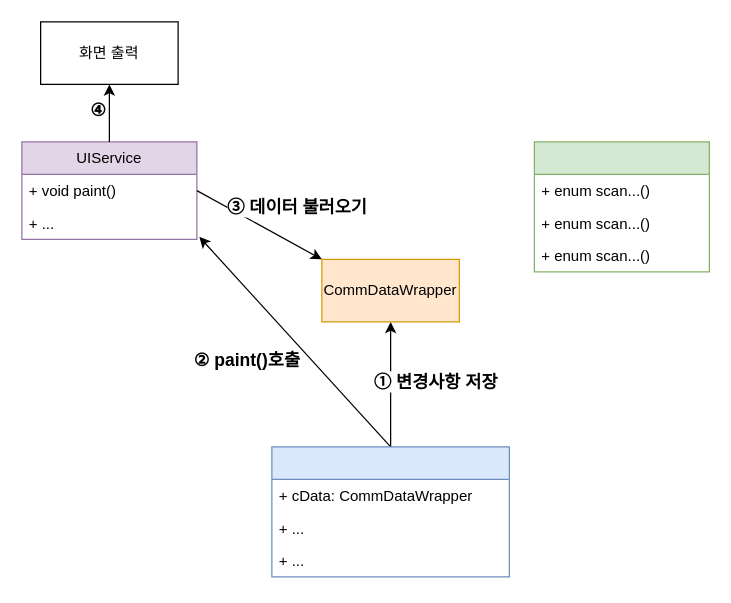
This 731x603 diagram has some shape labels left out. The shapes that lost their labels are listed below. From the top down, each one's box as (x1, y1, x2, y2) in pixels, then its label:
(533, 141, 709, 272): ScanService
(271, 446, 509, 577): GameService
